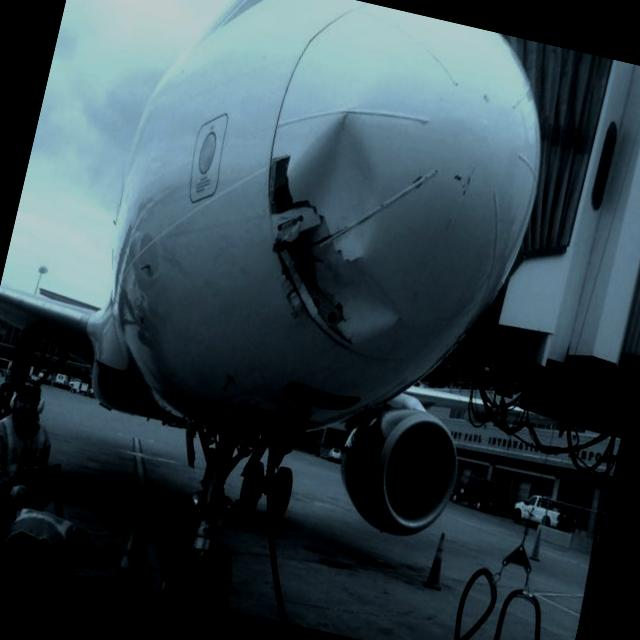dent: (273, 106, 399, 262), (314, 255, 411, 346)
